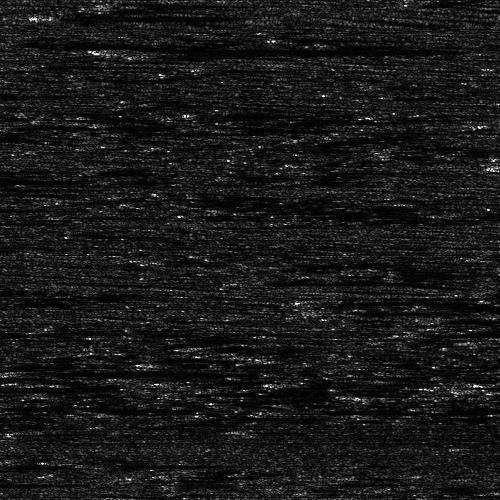object: (409, 379, 492, 394), (0, 365, 85, 378), (100, 47, 193, 58), (451, 337, 500, 342), (1, 38, 12, 51), (234, 277, 265, 280), (490, 160, 500, 169), (0, 122, 5, 125)
shadow: (7, 38, 307, 51), (23, 365, 226, 378), (147, 47, 358, 58), (0, 381, 99, 392), (0, 122, 288, 125), (450, 379, 500, 394), (250, 277, 411, 280), (0, 177, 85, 182)
